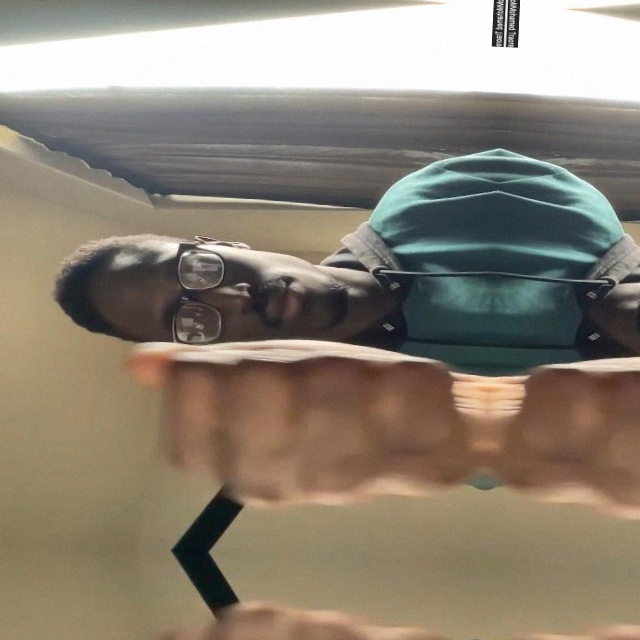Rock: (106, 594, 479, 640)
